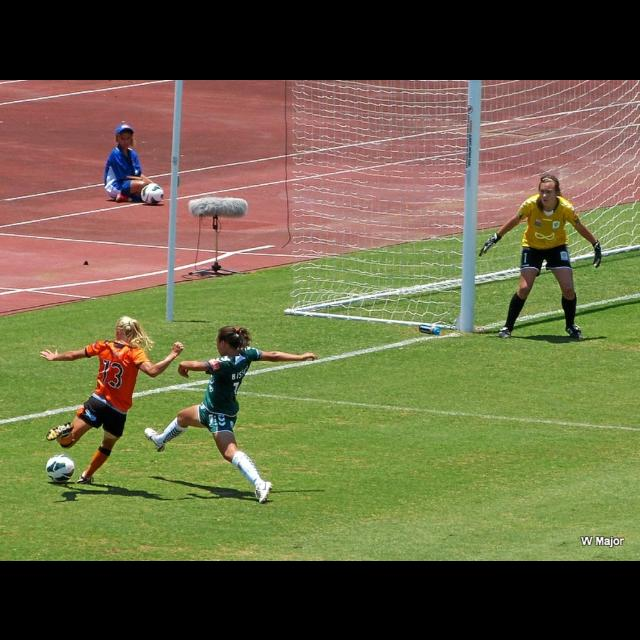Football: (46, 454, 76, 480), (138, 182, 162, 204)
